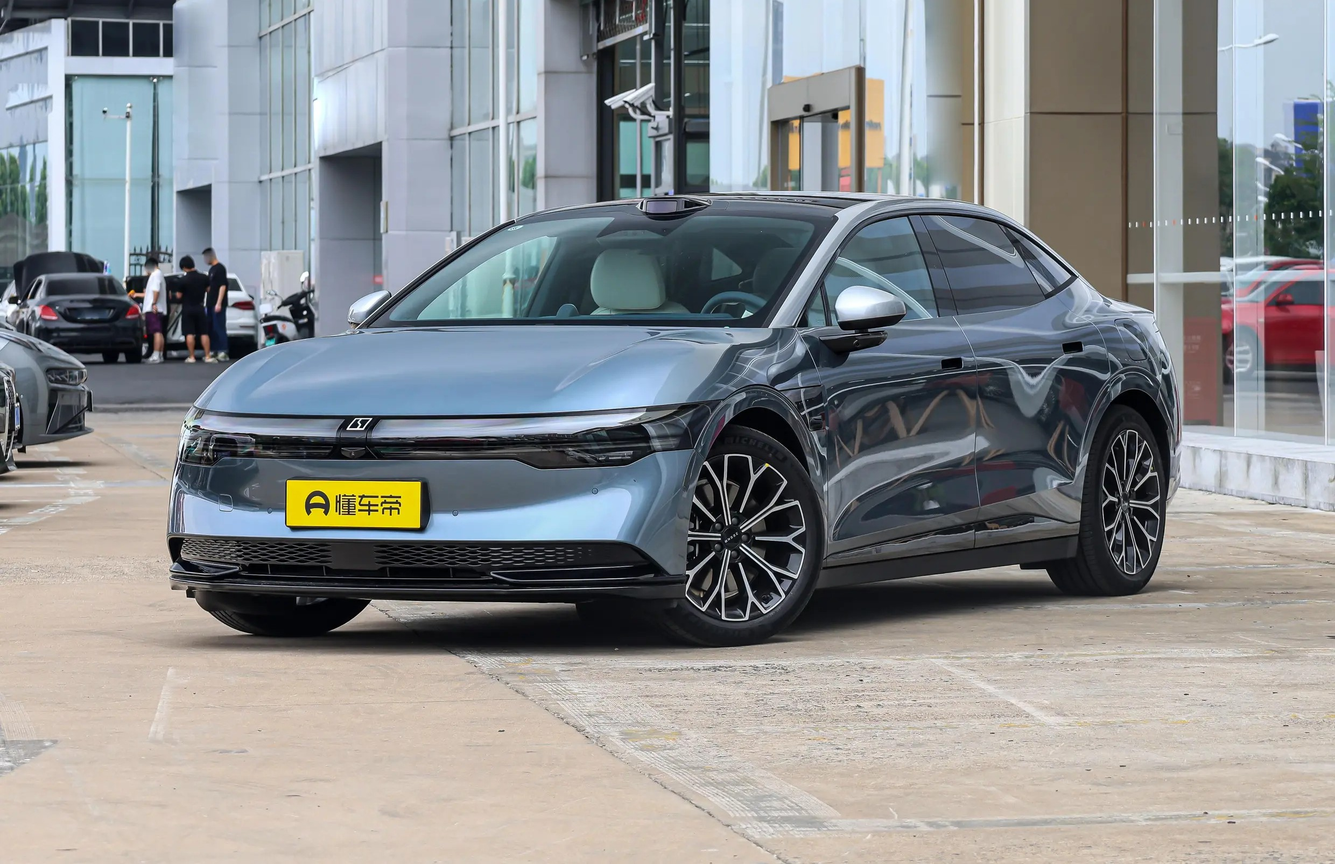ZEEKR: (347, 418, 371, 430)
